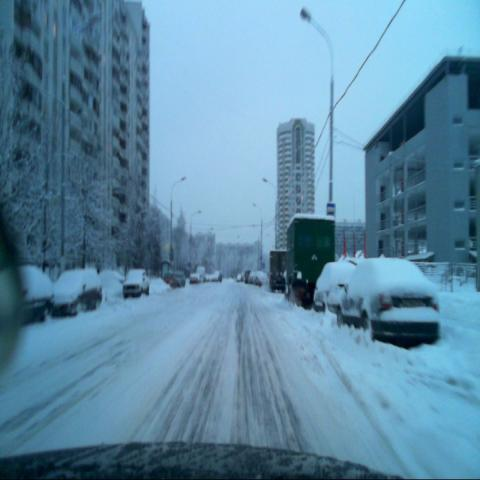5_16: (326, 199, 338, 224)
